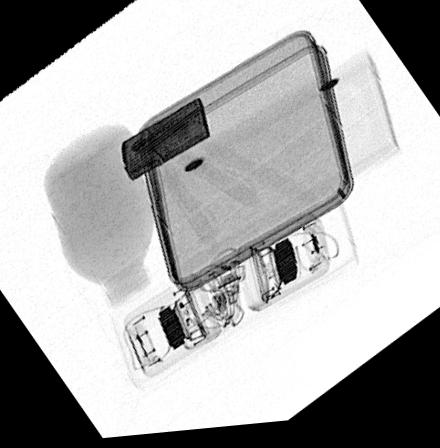Lighter: (120, 100, 211, 184)
